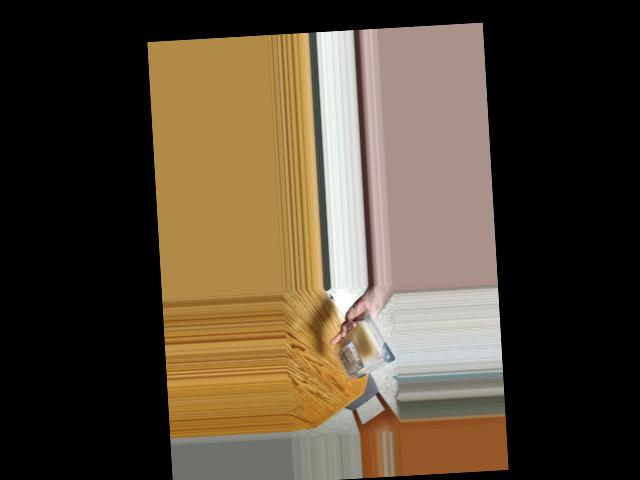cheese: (342, 311, 391, 380)
